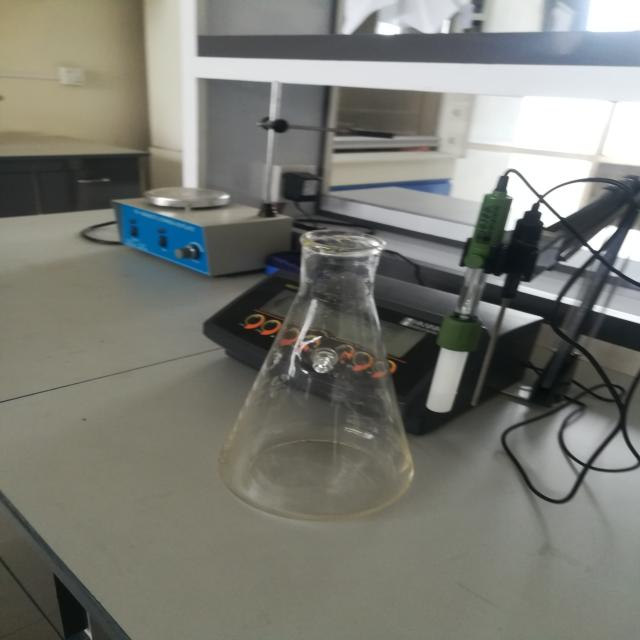Conical_Flask: (209, 186, 442, 555)
